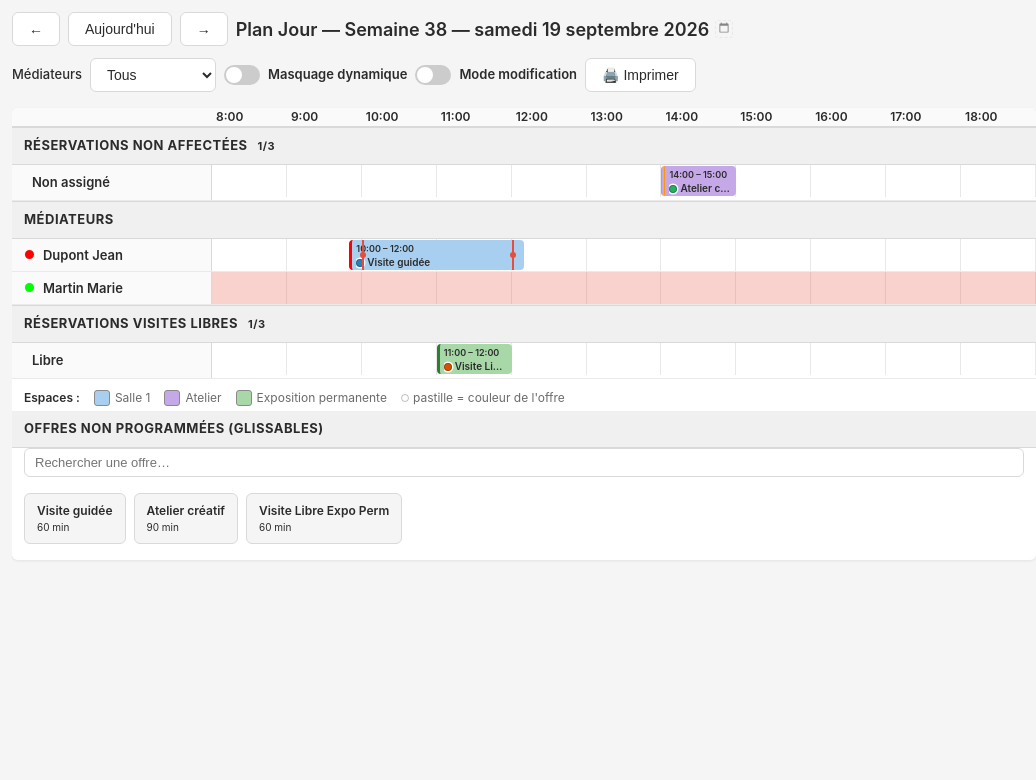
Test: DailyView › mediator filter › should consider a mediator with an absence today as NOT free
Select "Libres" in the dropdown with id "daily-mediator-filter" at (153, 75), box [90,58,216,92]
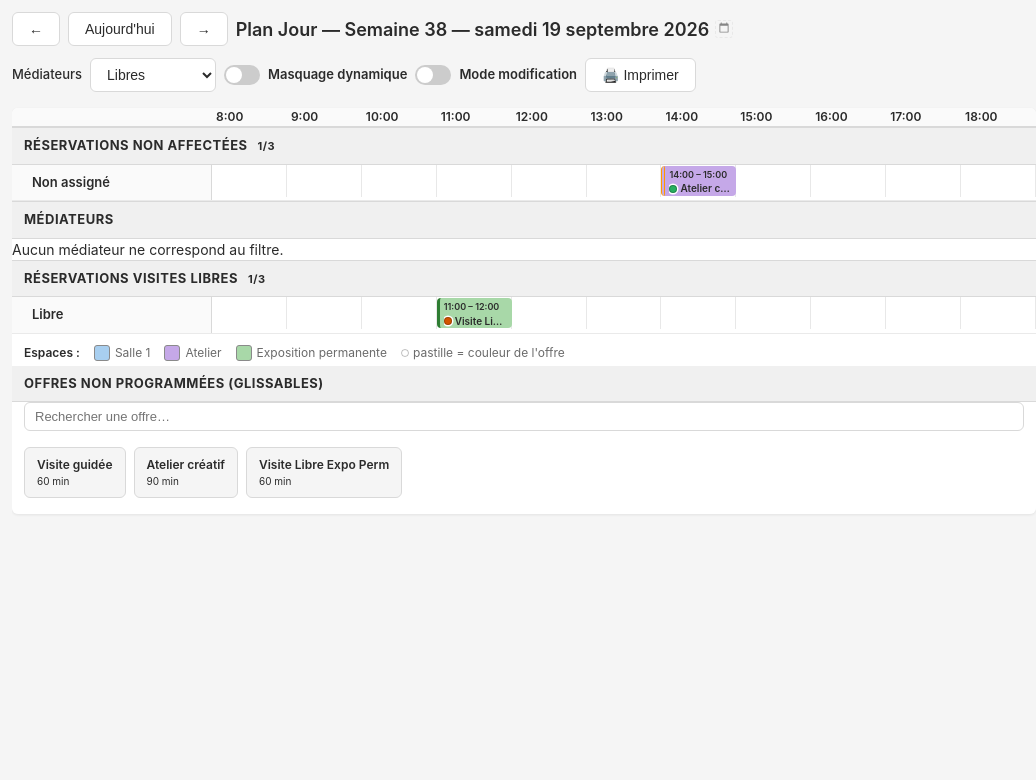
Now no elements with class "daily-mediator-row" are shown
